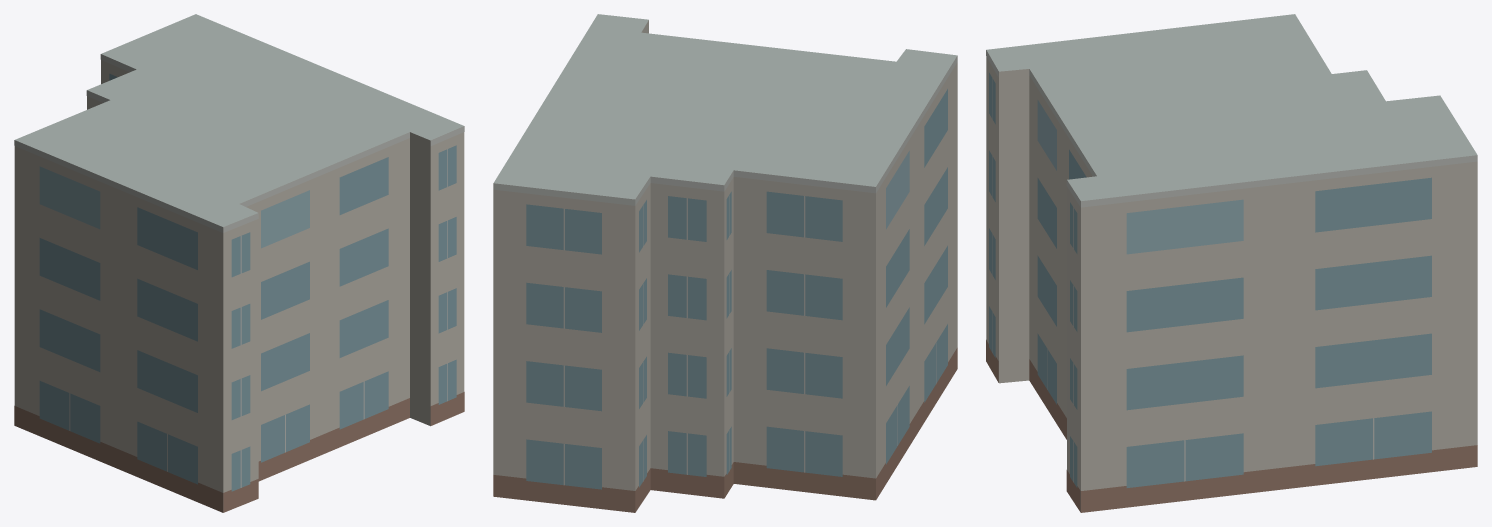
Rendered from survey-upis-32703252.glb.
3 views of the same model, side by side, from view 1: azimuth 30°, elevation 25°; view 2: azimuth 150°, elevation 25°; view 3: azimuth 270°, elevation 25° (orthographic). The views are drawn at different scales.
Visible parts, largest first — view 1: survey-upis-32703252.tmp; view 2: survey-upis-32703252.tmp; view 3: survey-upis-32703252.tmp.
Part boxes in pixels (x1=…): survey-upis-32703252.tmp: x1=14, y1=14, x2=464, y2=512; survey-upis-32703252.tmp: x1=493, y1=14, x2=957, y2=512; survey-upis-32703252.tmp: x1=986, y1=14, x2=1477, y2=512.
Bounding box in the file's own units: 15.27 × 11.85 × 16.94.
